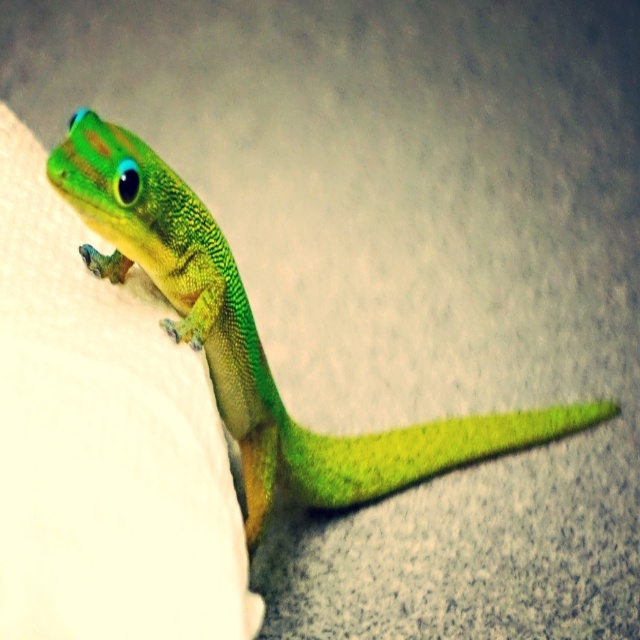Lizard: (44, 136, 626, 608)
